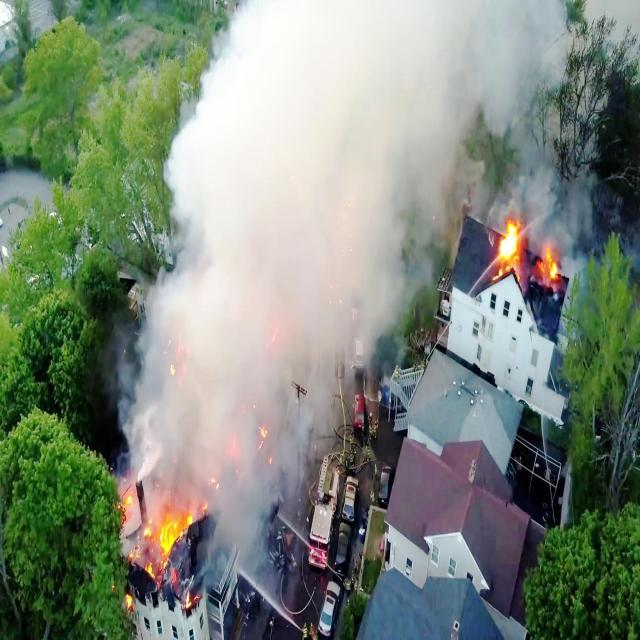Fire: (116, 490, 202, 614), (491, 208, 569, 306), (498, 212, 521, 274)
Smoke: (163, 0, 640, 211), (119, 206, 448, 500), (207, 501, 272, 575)
